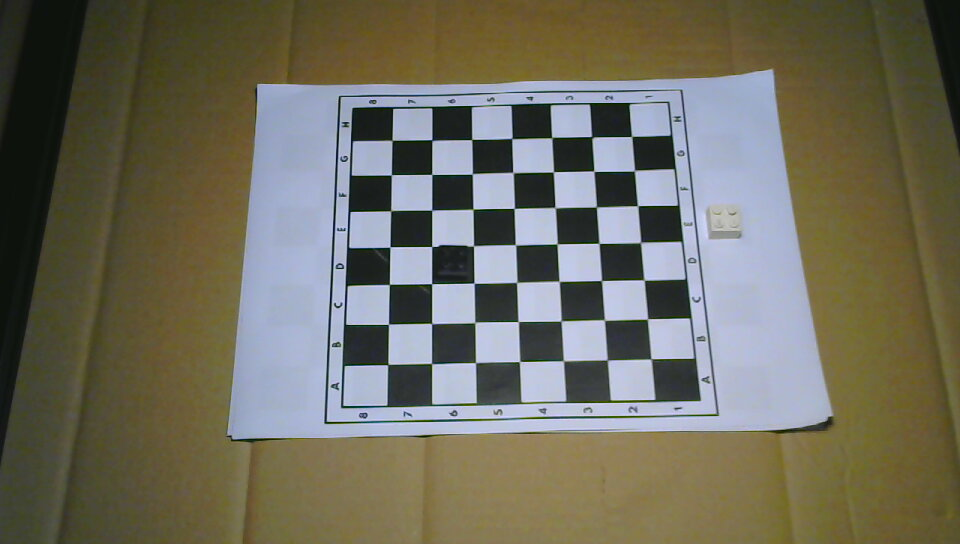bp: (438, 244, 470, 278)
wp: (704, 203, 743, 240)
